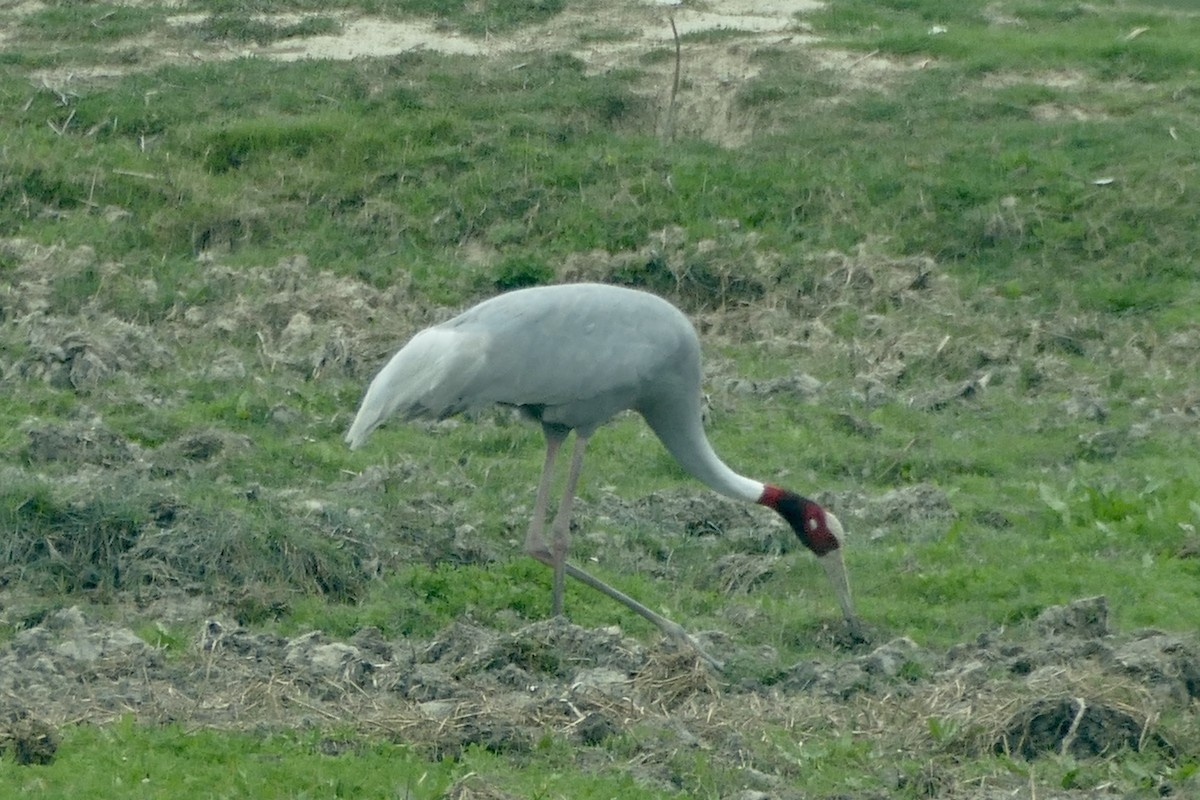crane: (357, 271, 871, 648)
